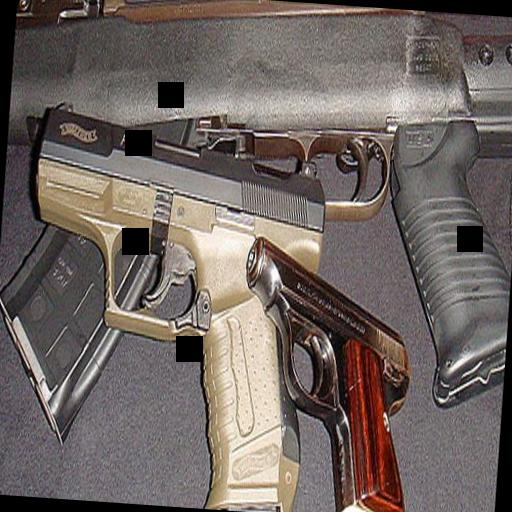Handgun: (11, 94, 331, 512), (227, 232, 421, 512)
